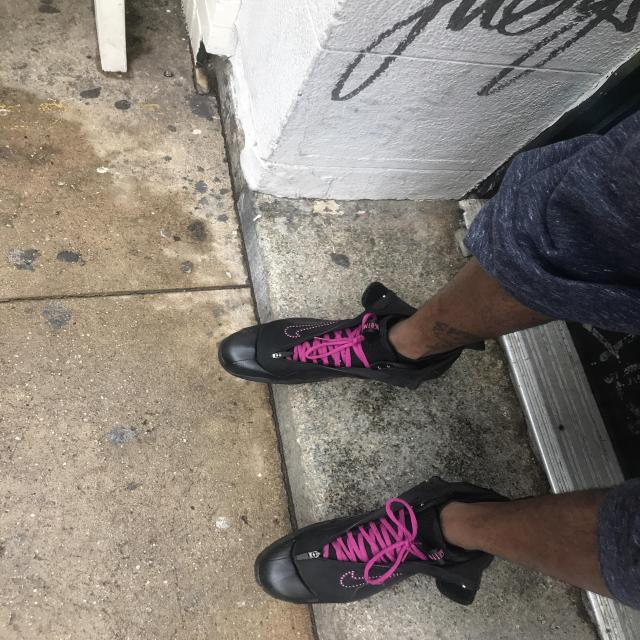shoe: (250, 456, 516, 626), (208, 265, 487, 403)
